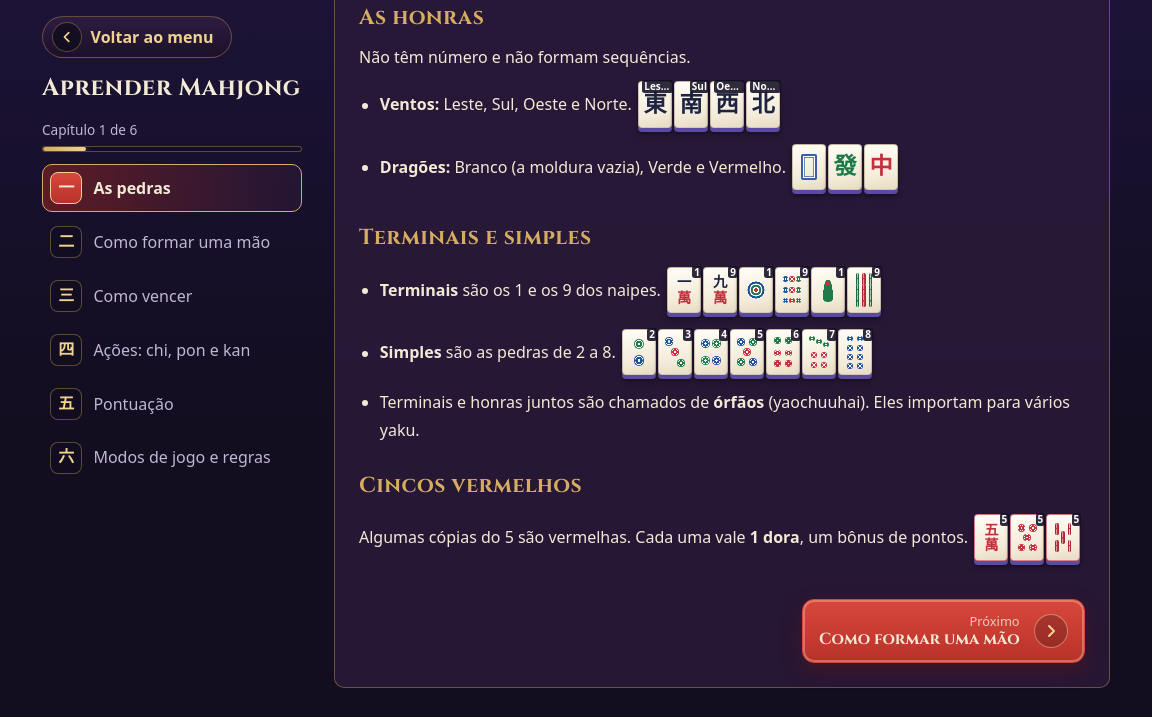
Test: tutorial (spec 10.8) › tem 6 capítulos, navegação e pedras desenhadas
(page scrolled)
Expected: the picture named "5 de bambu, vermelho" is shown, [1046,514,1080,565]
Click the link "Próximo Como formar uma mão" at coordinates (944, 631), box [802,599,1085,663]
(page scrolled)
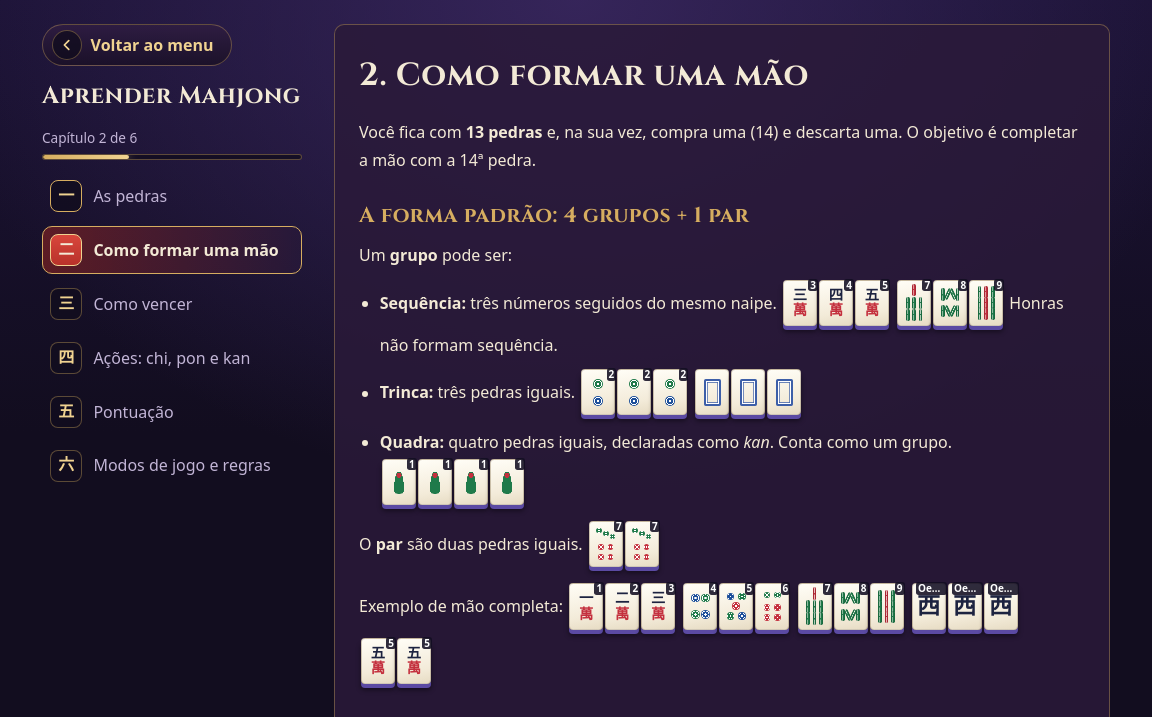
Result: the heading "2. Como formar uma mão" is shown at [359,54,809,97]
